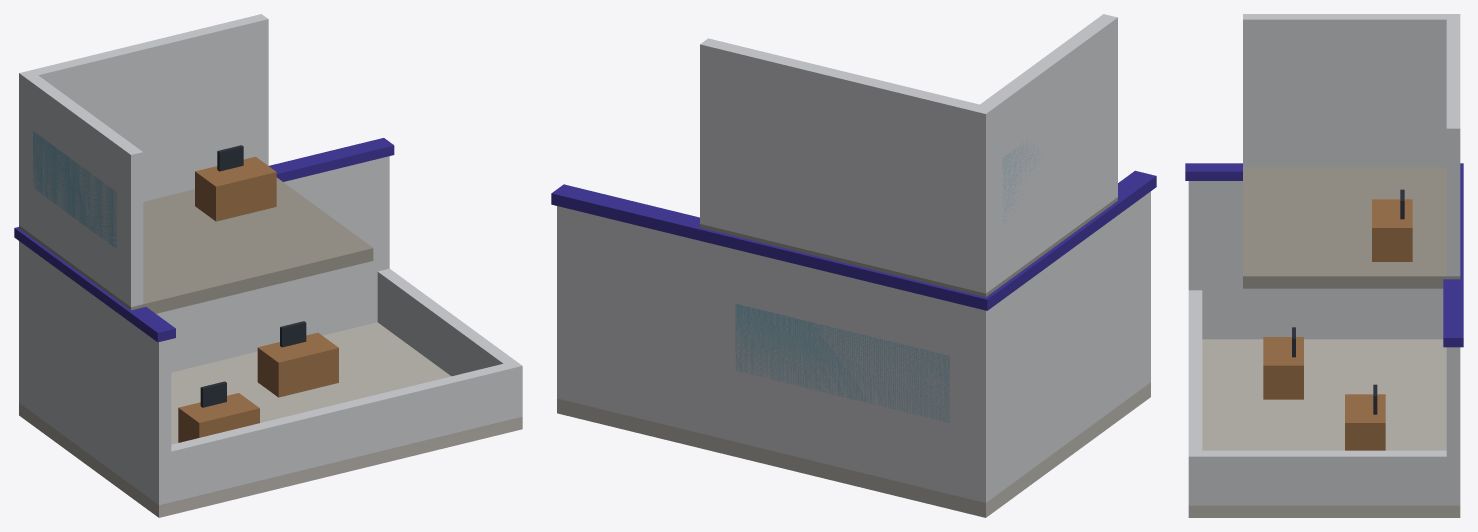
Rendered from office.glb.
The picture shows the model from 3 angles, left to right: view 1: azimuth 30°, elevation 25°; view 2: azimuth 150°, elevation 25°; view 3: azimuth 270°, elevation 25°; orthographic projection. The views are drawn at different scales.
Parts seen in each view (by area): view 1: office; view 2: office; view 3: office.
Boxes of the visible parts, left/top/right/bottom form: office: left=14, top=14, right=522, bottom=517; office: left=551, top=14, right=1156, bottom=517; office: left=1185, top=14, right=1463, bottom=517.
Bounding box in the file's own units: 6.1 × 5.4 × 4.1.
